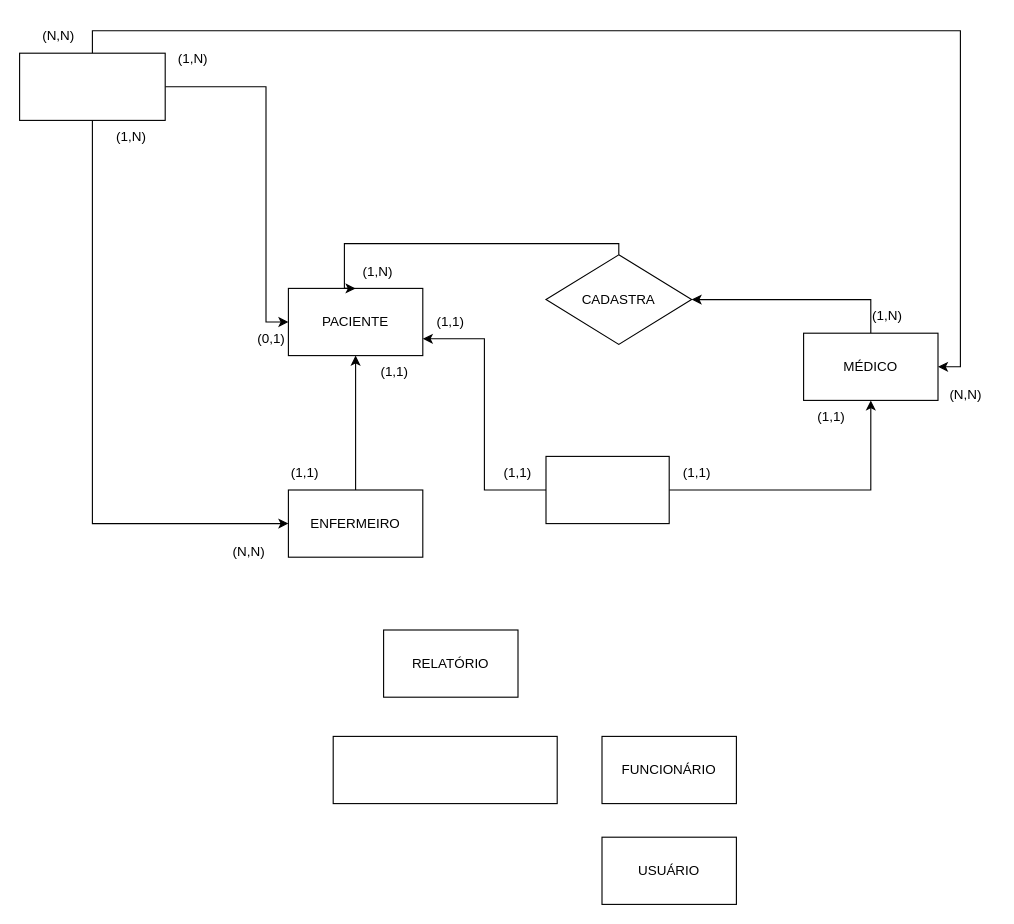
The diagram is 1014 pixels wide and 924 high, and some of its shapes have lost their labels. Here are the shapes that lost their labels. From the top down, the box of each, then its label:
(18, 52, 165, 120): MEDICAMENTO
(545, 455, 669, 524): DIAGNÓSTICO
(332, 735, 557, 804): APLICACAO_MEDICAMENTO
